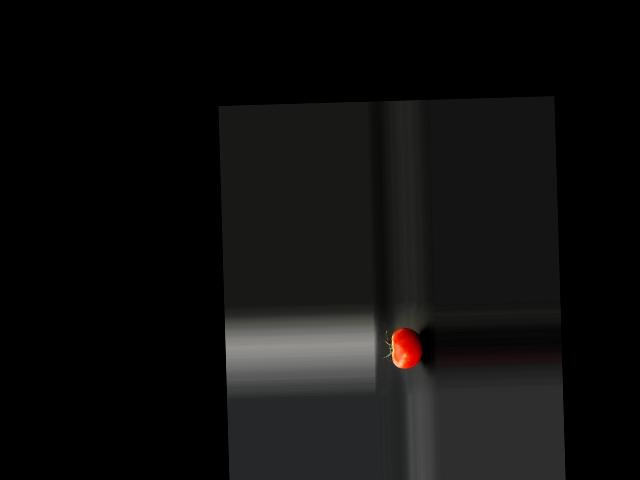tomato: (391, 327, 423, 369)
